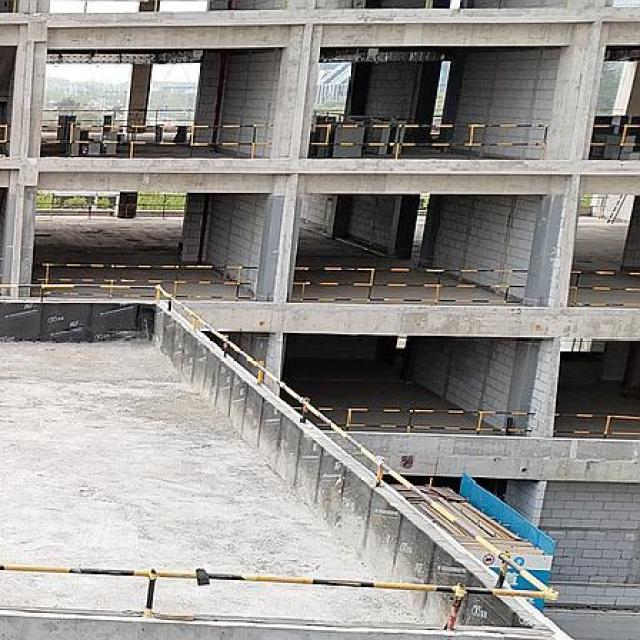edge_guardrail: (0, 281, 560, 632), (287, 266, 530, 306), (309, 122, 550, 161), (31, 261, 259, 302), (40, 123, 274, 160), (292, 406, 537, 438), (34, 192, 187, 221), (567, 269, 640, 308), (41, 108, 196, 125), (553, 411, 640, 439), (590, 123, 640, 161), (0, 124, 11, 155)
